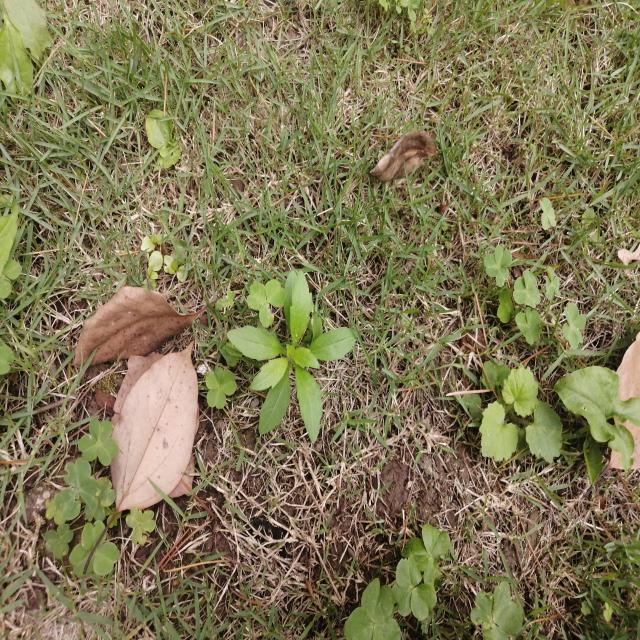horseweed: (234, 282, 362, 453)
